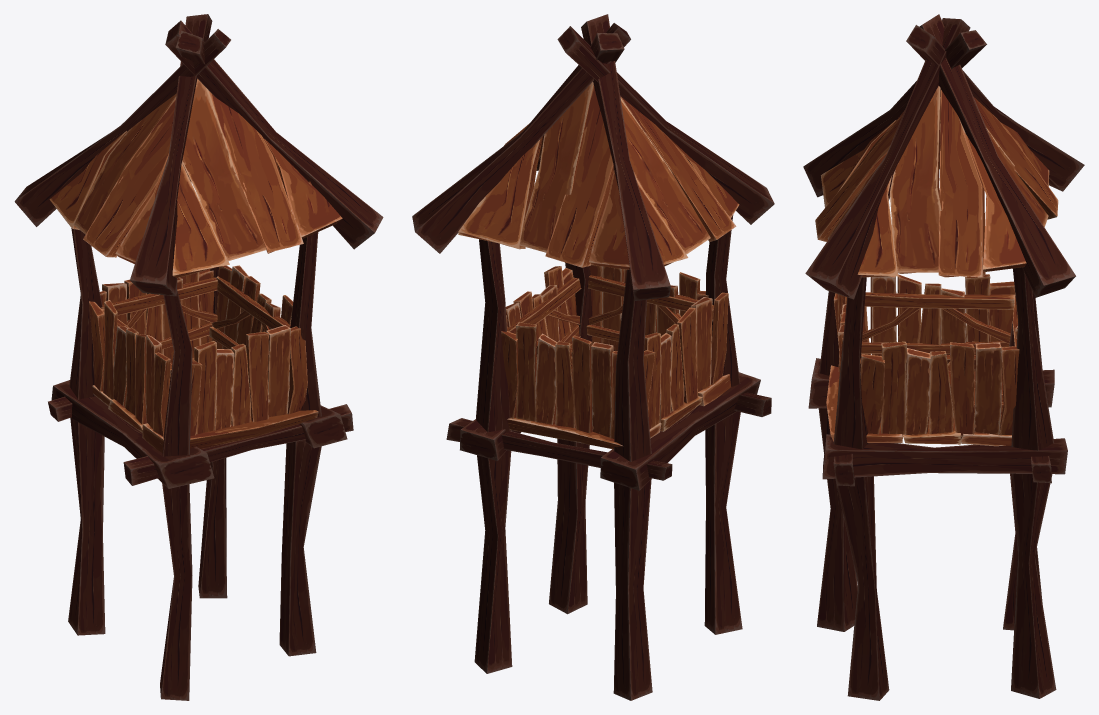
File: SM_PROP_watchtower_wood_01.fbx
The picture shows the model from 3 angles, left to right: view 1: azimuth 30°, elevation 25°; view 2: azimuth 150°, elevation 25°; view 3: azimuth 270°, elevation 25°; orthographic projection. The views are drawn at different scales.
Parts seen in each view (by area): view 1: SM_PROP_watchtower_wood_01; view 2: SM_PROP_watchtower_wood_01; view 3: SM_PROP_watchtower_wood_01.
Part boxes in pixels (x1=…): SM_PROP_watchtower_wood_01: x1=14, y1=14, x2=383, y2=700; SM_PROP_watchtower_wood_01: x1=412, y1=14, x2=774, y2=700; SM_PROP_watchtower_wood_01: x1=803, y1=14, x2=1084, y2=700.
Size of the model in its own units: 501 by 1121 by 448.
